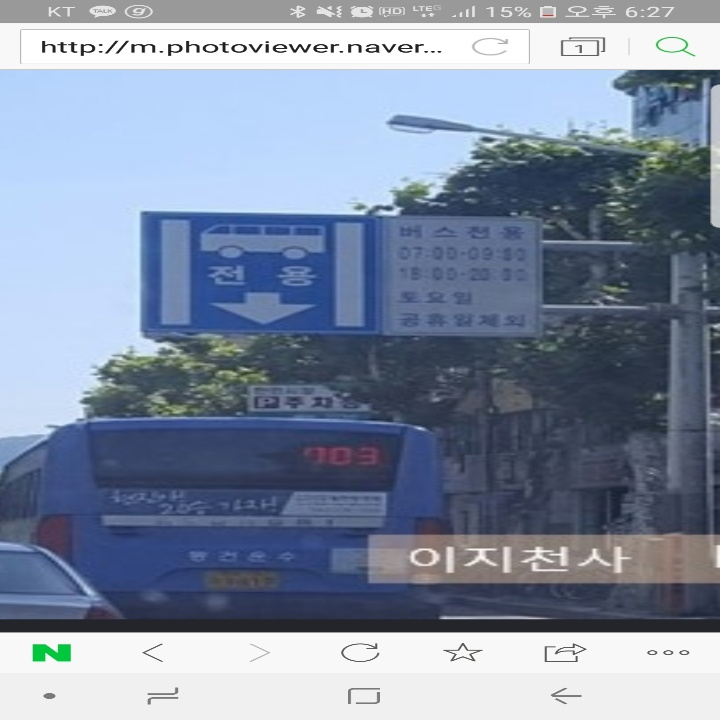bus: (196, 216, 330, 265)
